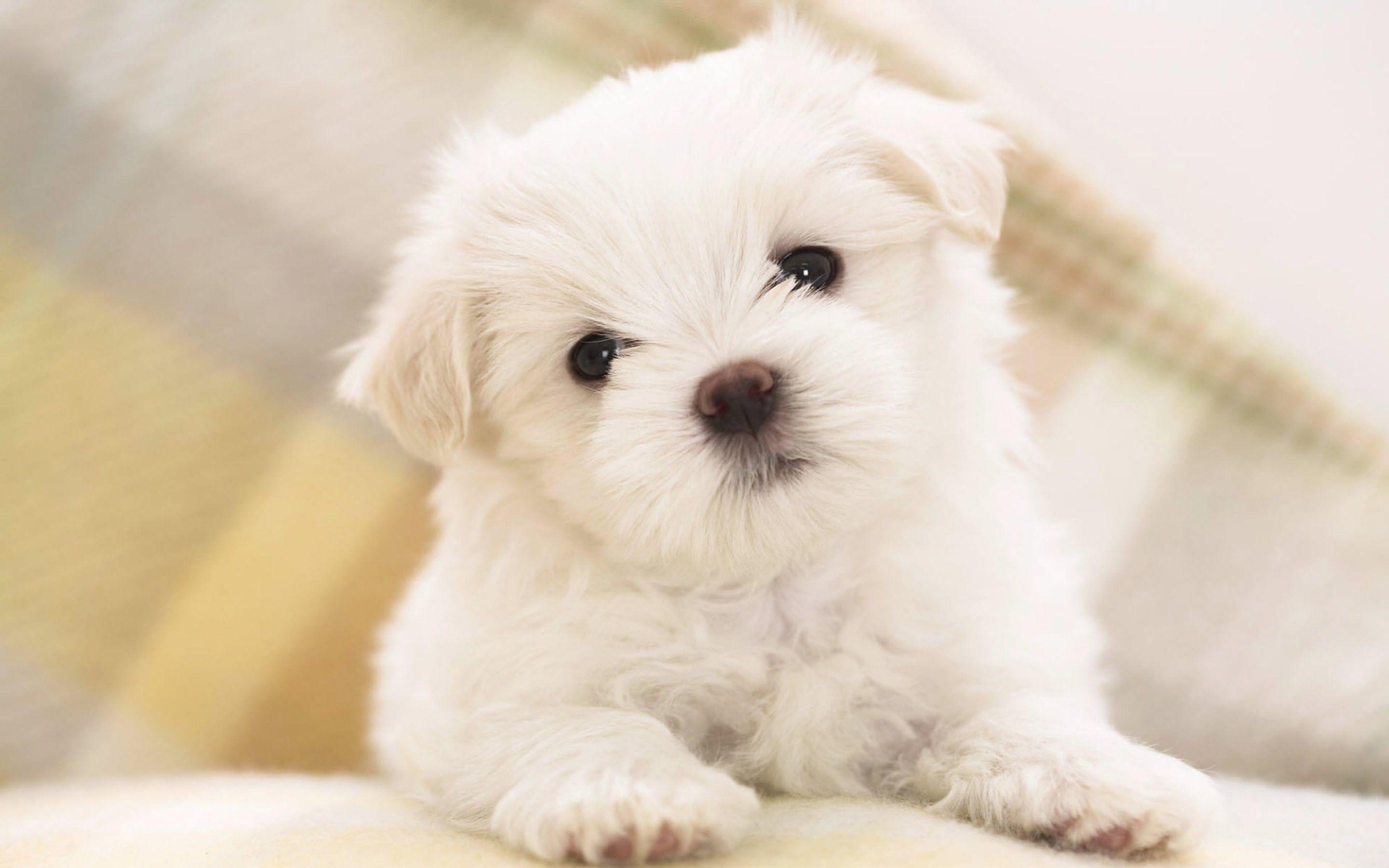puppy-dog: (328, 5, 1215, 868)
